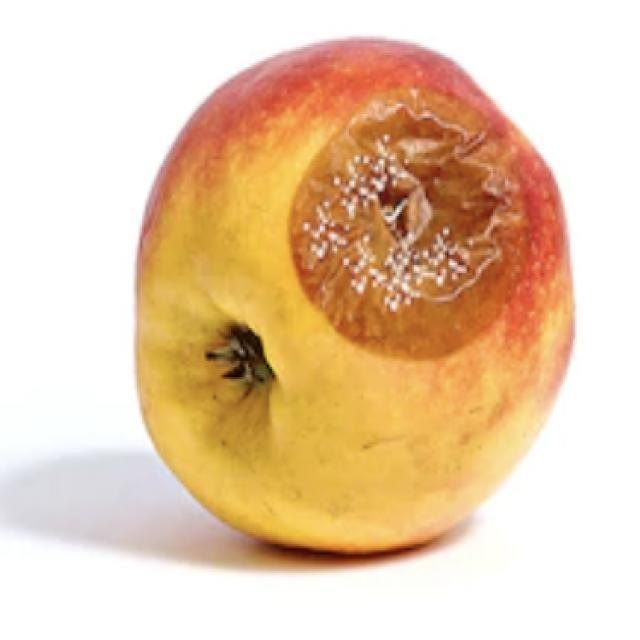Rotten: (142, 53, 560, 537)
